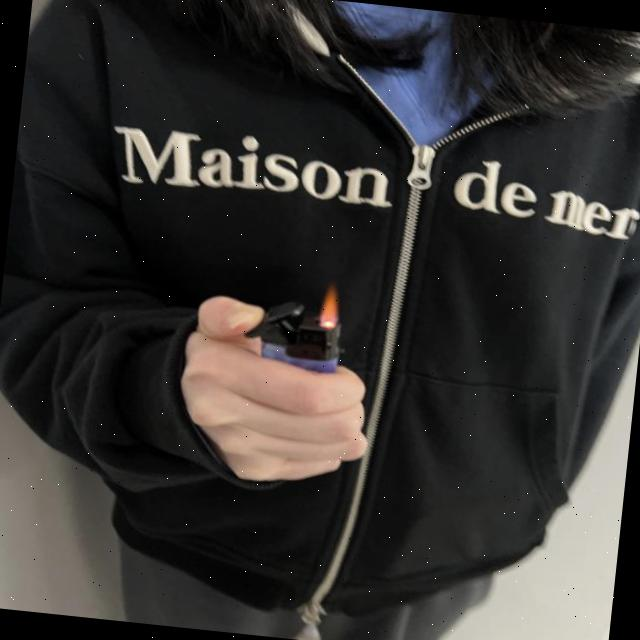fire: (312, 280, 345, 328)
